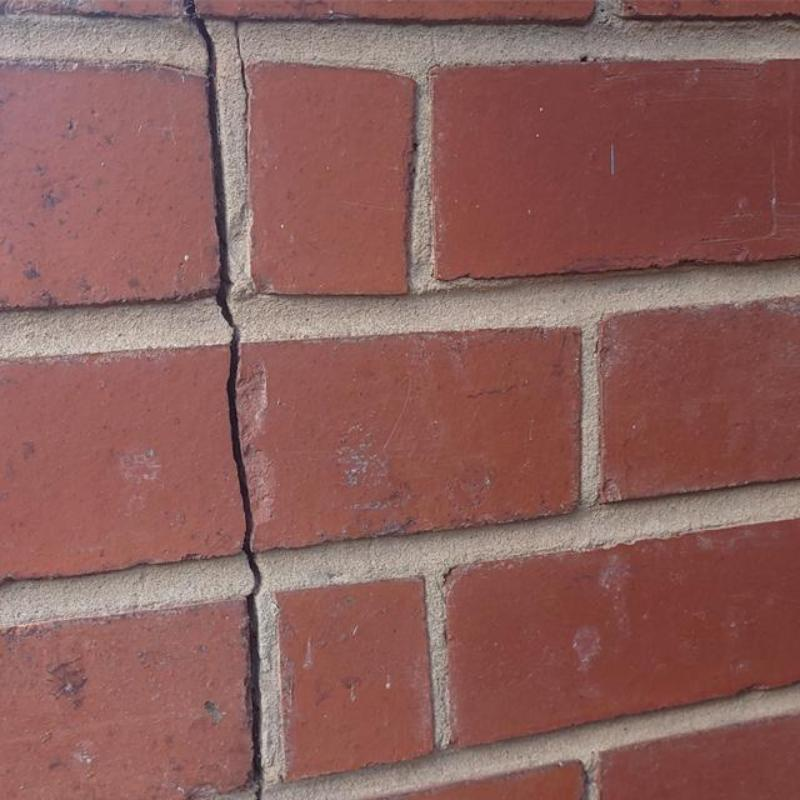pothole: (183, 0, 262, 800), (233, 21, 249, 172)
